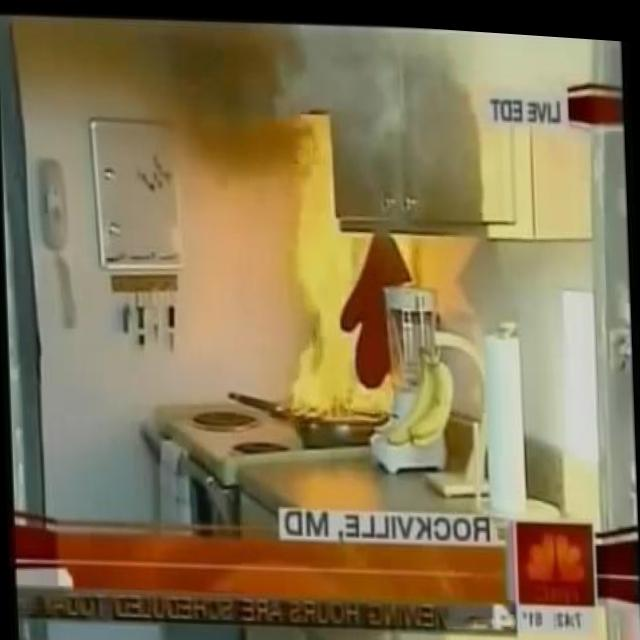fire: (285, 154, 393, 421)
